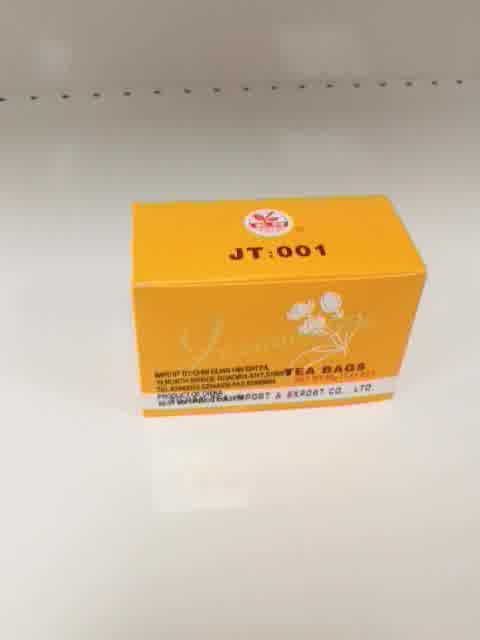jasminetea: (128, 193, 427, 418)
